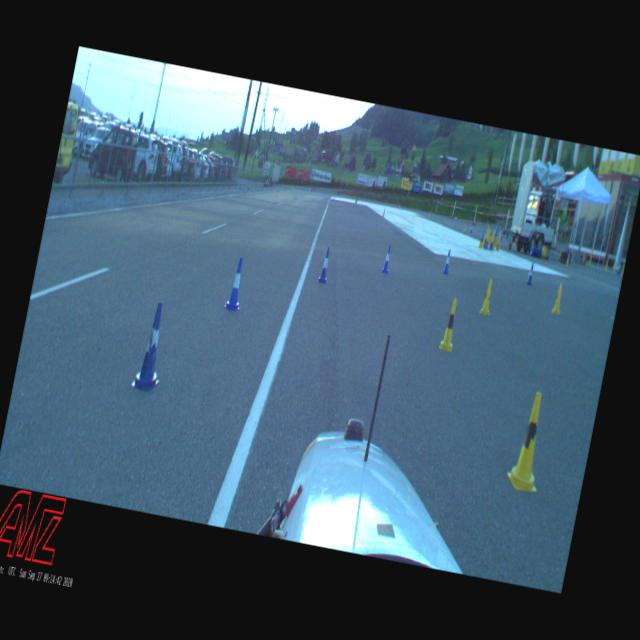blue_cone: (130, 300, 174, 392), (224, 256, 250, 312), (316, 244, 334, 284), (380, 243, 394, 274), (442, 247, 454, 276), (526, 264, 536, 288)
yellow_cone: (504, 390, 556, 496), (440, 298, 461, 348), (479, 278, 497, 316), (550, 280, 566, 316)
